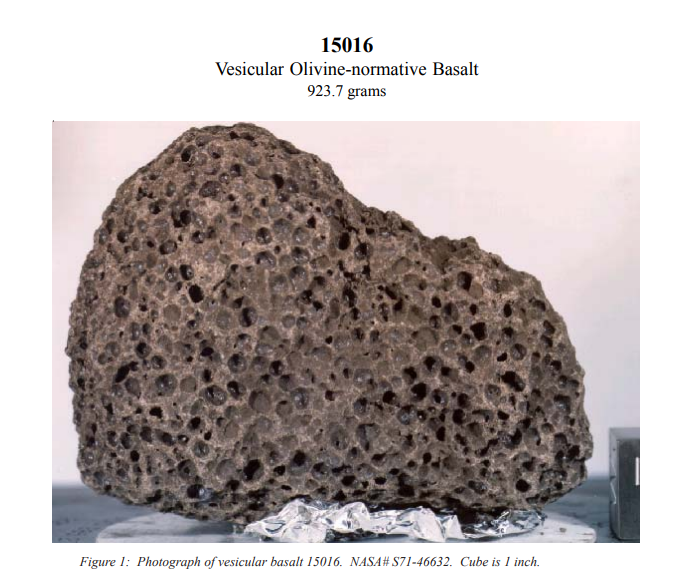Basalt: (110, 145, 581, 505), (158, 273, 527, 469)
